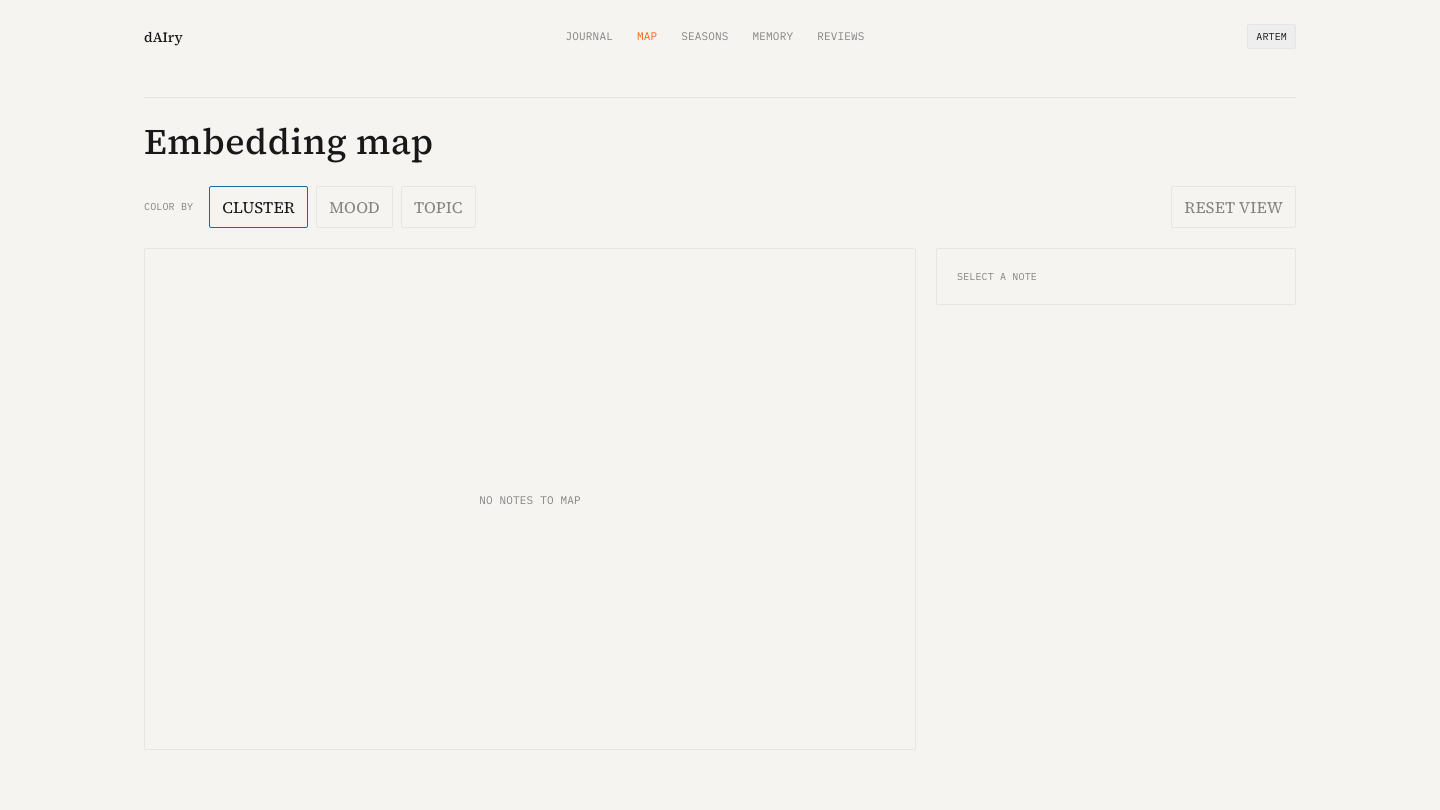
Test case: Phase 2 app shell and auth flow › AC-2: routes between JOURNAL, MAP, SEASONS, and MEMORY views in the authenticated shell
The width and height of the screenshot is (1440, 810).
Expected: the heading "Embedding map" is shown, [144, 117, 434, 166]
Click the link "JOURNAL": (589, 37) [566, 28, 613, 45]
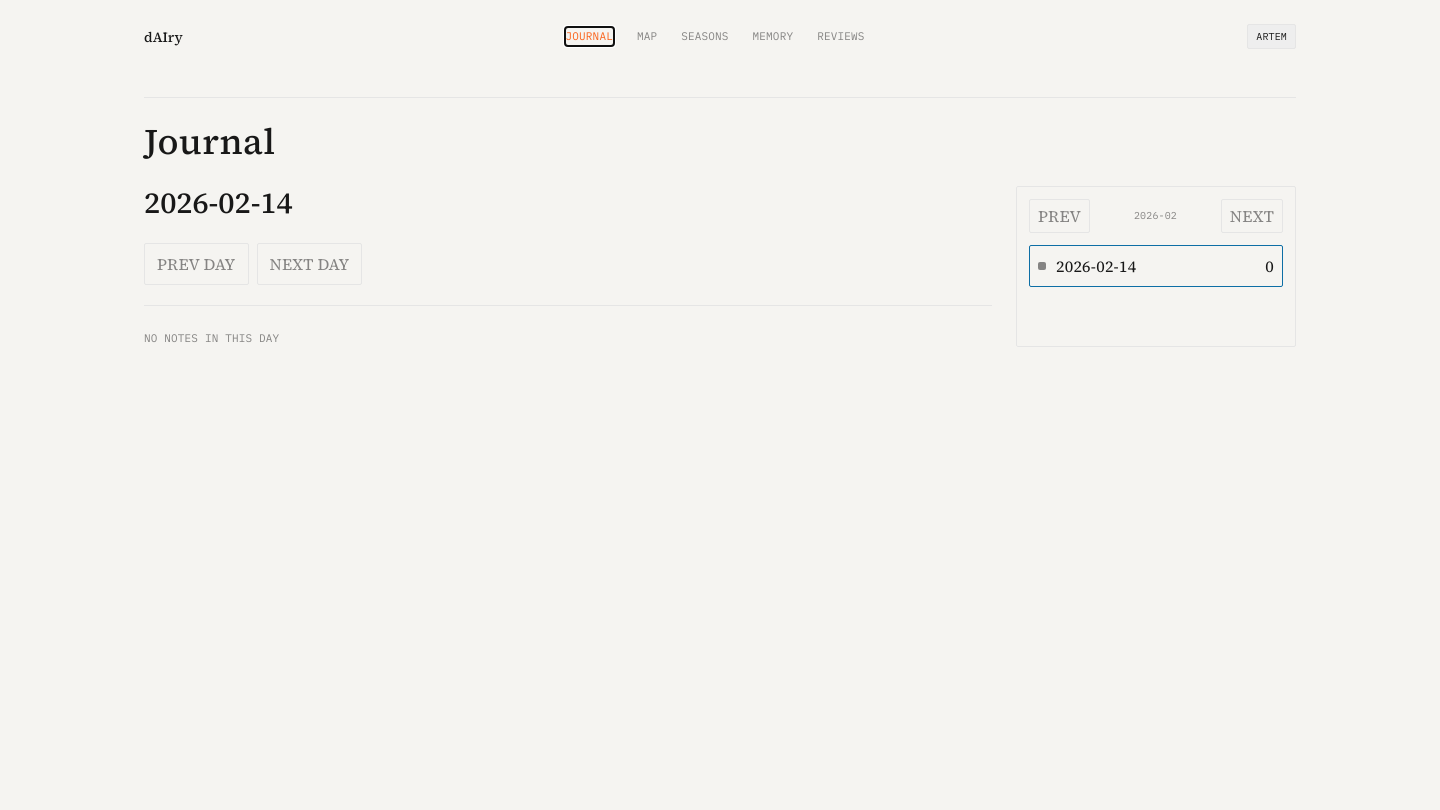
Expected: the heading "Journal" is shown, [144, 117, 276, 166]
Click the link "SEASONS": (705, 37) [681, 28, 729, 45]
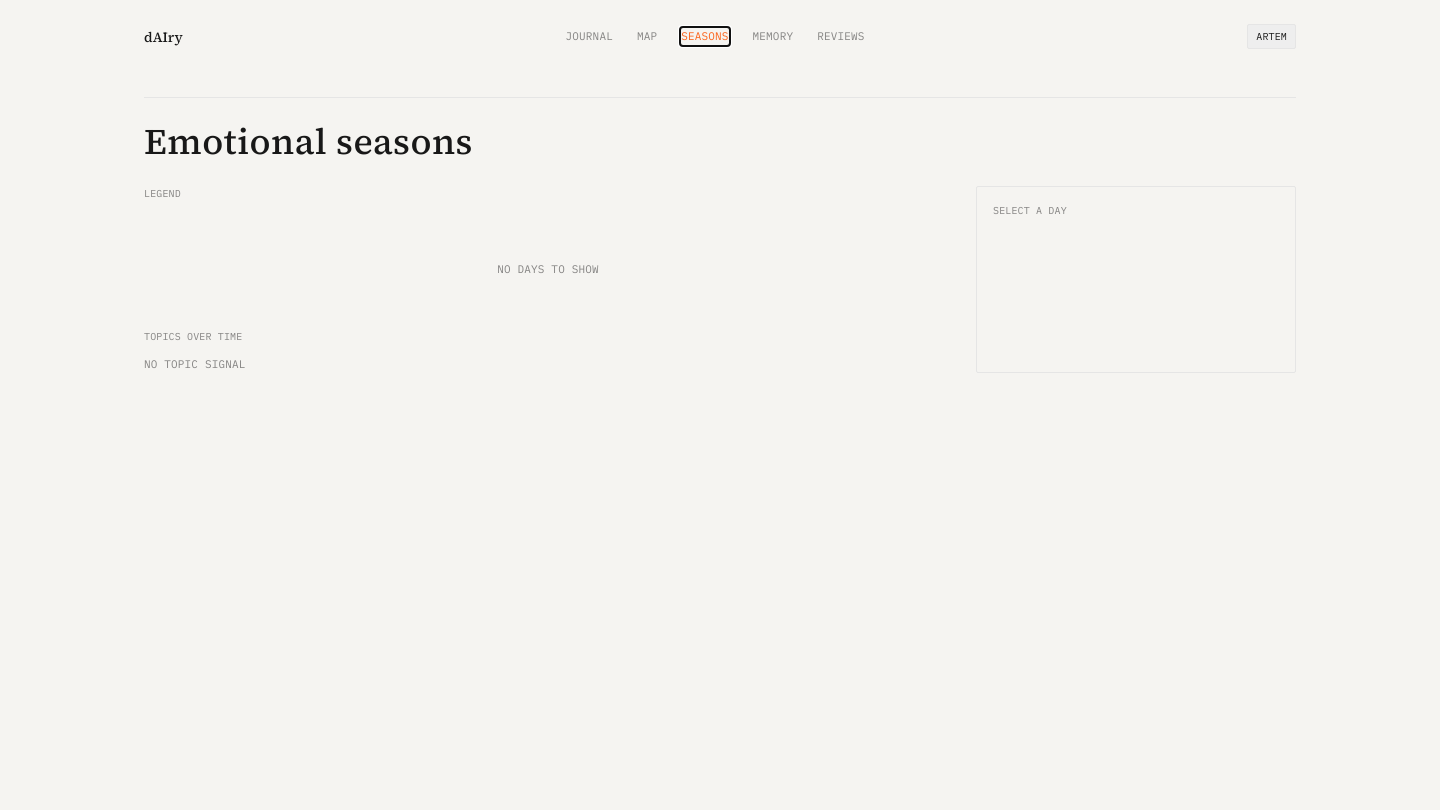
Expected: the heading "Emotional seasons" is shown, [144, 117, 473, 166]
Click the link "MEMORY": (773, 37) [753, 28, 793, 45]
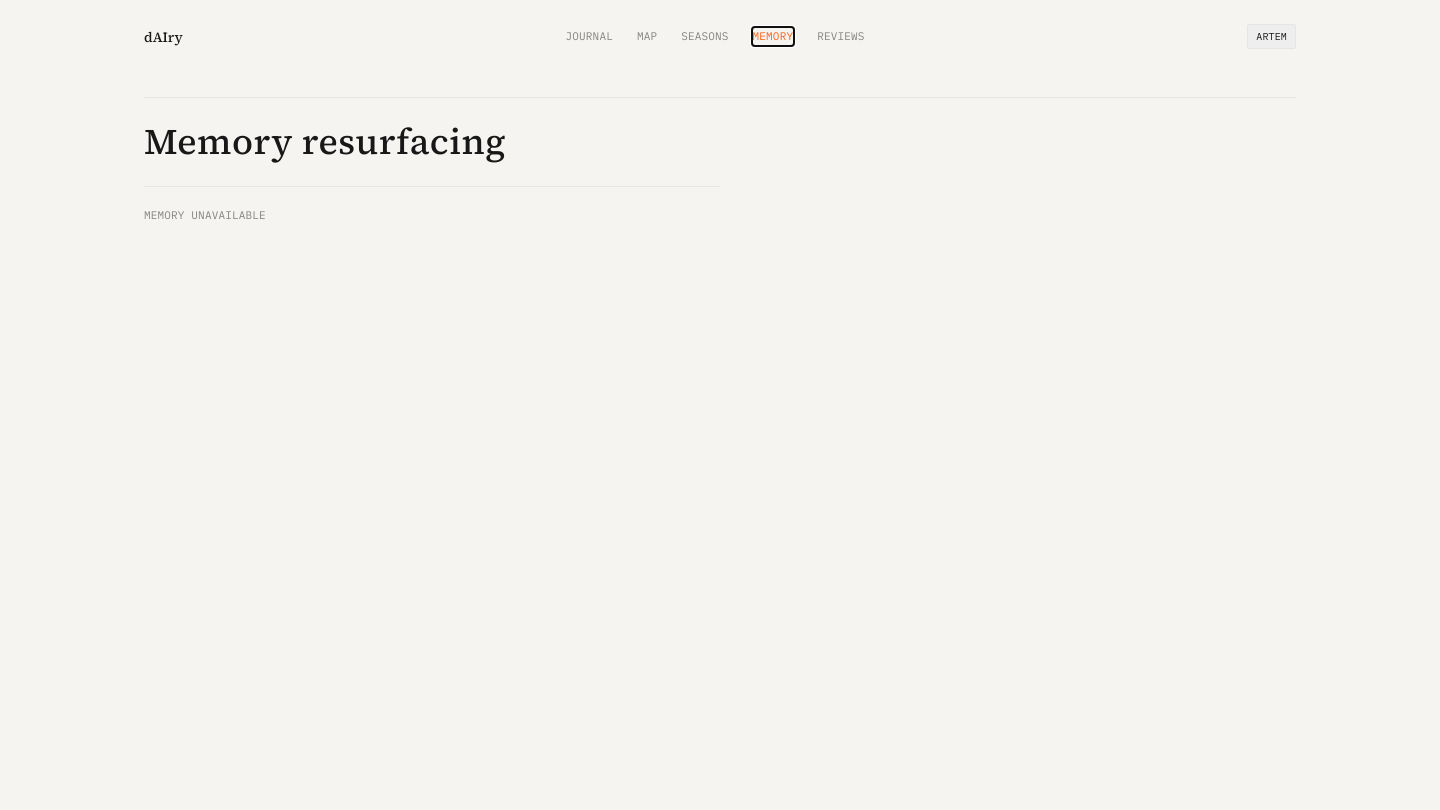
Expected: the heading "Memory resurfacing" is shown, [144, 117, 506, 166]
